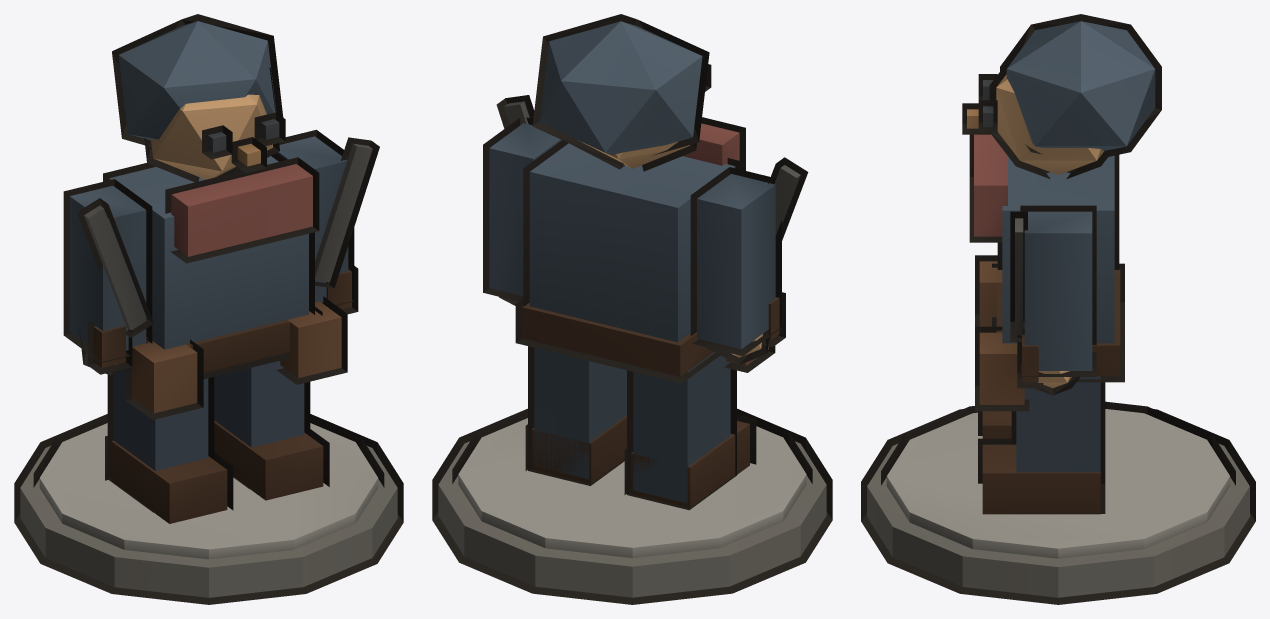
The model's file is pnj_voleuse.glb.
3 renders of one model, left to right at view 1: azimuth 30°, elevation 25°; view 2: azimuth 150°, elevation 25°; view 3: azimuth 270°, elevation 25°, orthographic. The views are drawn at different scales.
Parts seen in each view (by area): view 1: pnj_voleuse, pnj_voleuse_outline; view 2: pnj_voleuse, pnj_voleuse_outline; view 3: pnj_voleuse, pnj_voleuse_outline.
Boxes of the visible parts, x1,y1,x2,y2 form: pnj_voleuse: (20,21,397,597); pnj_voleuse_outline: (14,14,403,604); pnj_voleuse: (438,21,826,597); pnj_voleuse_outline: (432,14,832,604); pnj_voleuse: (867,21,1249,597); pnj_voleuse_outline: (861,14,1255,604).
Bounding box in the file's own units: 0.7012 × 0.9949 × 0.7012.
